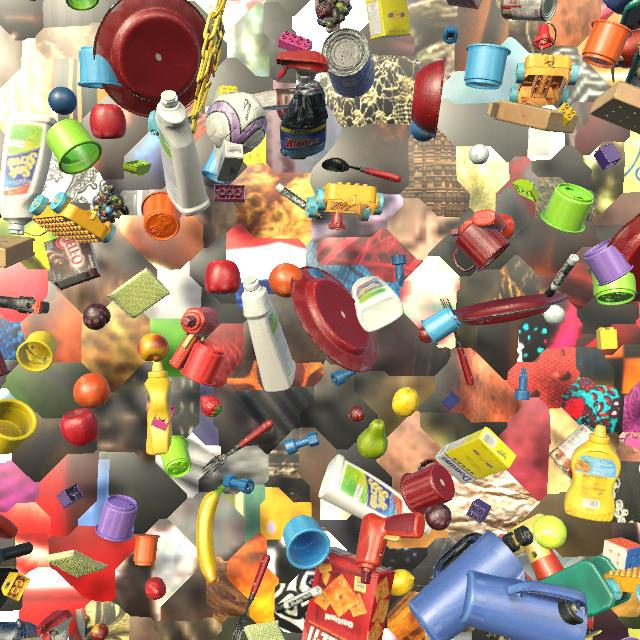ycb_002_master_chef_can: (321, 28, 375, 98)
ycb_003_cracker_box: (302, 547, 395, 640)
ycb_004_sugar_box: (435, 427, 517, 485), (213, 85, 244, 181), (366, 0, 411, 40)
ycb_005_tomato_soup_can: (548, 423, 594, 479), (277, 80, 328, 120), (500, 0, 558, 21)
ycb_006_mustard_bottle: (564, 425, 621, 522), (144, 362, 173, 455)
ycb_008_pudding_box: (44, 236, 101, 290), (251, 87, 296, 110)
ycb_009_gelatin_box: (446, 0, 482, 9), (30, 0, 36, 2)
ycb_010_potted_meat_can: (12, 637, 52, 640)
ycb_011_banana: (196, 484, 225, 584)
ycb_012_strawberry: (200, 395, 222, 417), (145, 577, 166, 600)
ycb_013_apple: (60, 408, 99, 447), (90, 104, 127, 139), (204, 260, 241, 294)
ycb_014_lemon: (392, 387, 419, 417), (391, 569, 415, 596)
ycb_015_peach: (138, 332, 169, 362)
ycb_016_pear: (357, 419, 388, 460)
ycb_017_orange: (73, 373, 111, 409), (269, 263, 303, 298)
ycb_018_plum: (83, 303, 111, 330), (425, 504, 452, 531)
